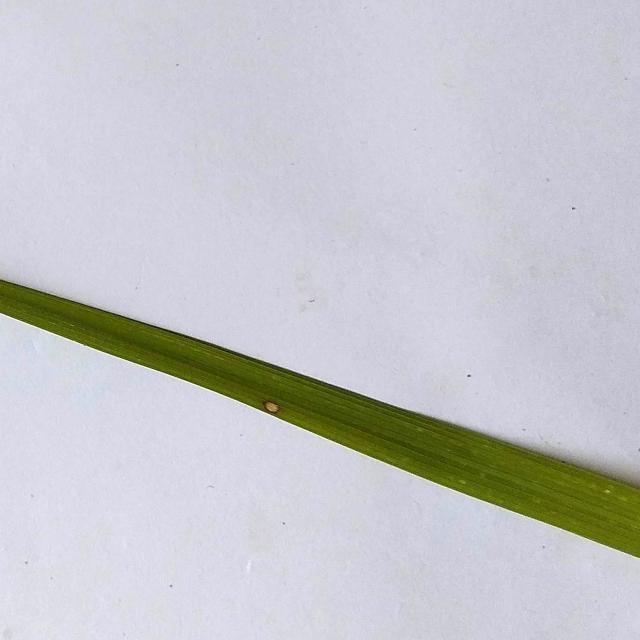Blast: (260, 401, 286, 414)
